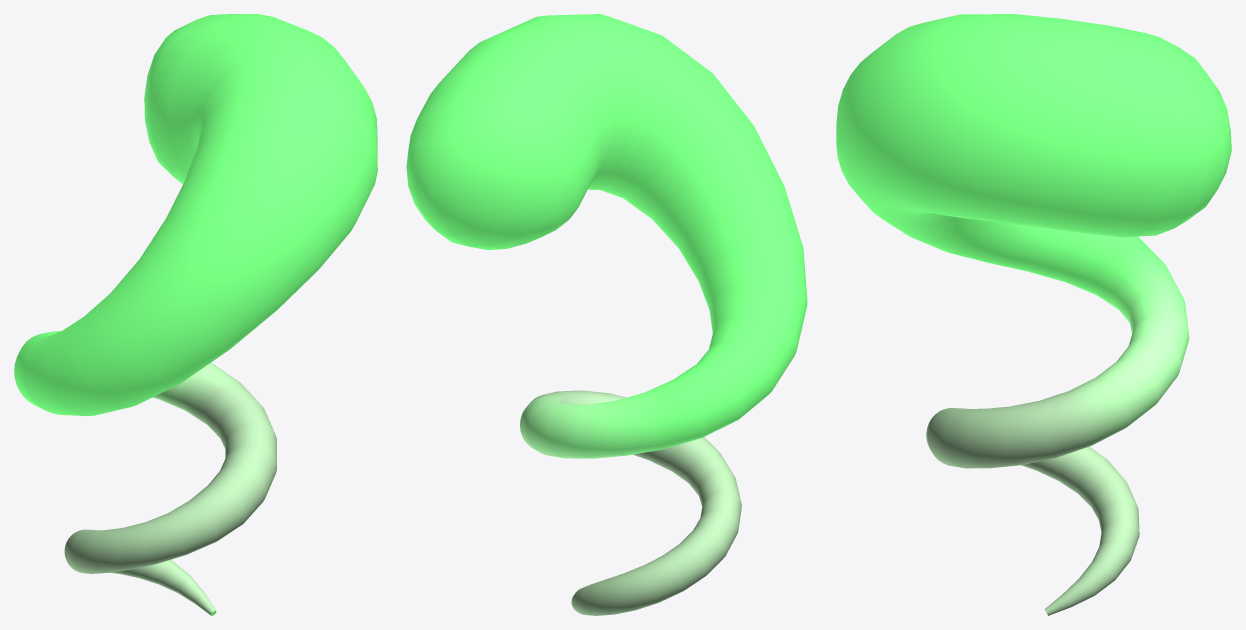
File: Ectoplasm.fbx
3 renders of one model, left to right at view 1: azimuth 30°, elevation 25°; view 2: azimuth 150°, elevation 25°; view 3: azimuth 270°, elevation 25°, orthographic. The views are drawn at different scales.
Visible parts, largest first — view 1: Spiral.001; view 2: Spiral.001; view 3: Spiral.001.
Boxes of the visible parts, box(x1,y1,x2,y2) form: Spiral.001: box(14, 14, 377, 615); Spiral.001: box(406, 14, 807, 615); Spiral.001: box(836, 14, 1231, 615).
Size of the model in its own units: 602 by 997 by 578.
1 material, 1 textured.
